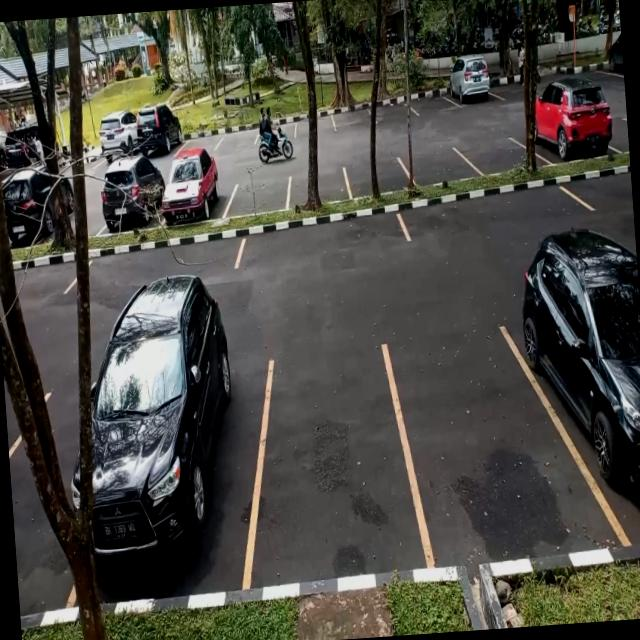car: (78, 291, 268, 595), (511, 250, 640, 551), (535, 88, 614, 164), (158, 158, 230, 228), (102, 164, 164, 237), (449, 65, 496, 108)
free: (391, 316, 616, 565), (240, 342, 417, 582), (398, 182, 586, 240), (237, 210, 408, 264), (407, 146, 473, 188), (573, 167, 633, 212), (346, 156, 410, 197), (466, 134, 531, 174), (287, 168, 351, 208), (227, 176, 292, 214), (411, 86, 454, 118), (368, 95, 412, 124), (217, 123, 257, 152), (331, 102, 372, 130)
